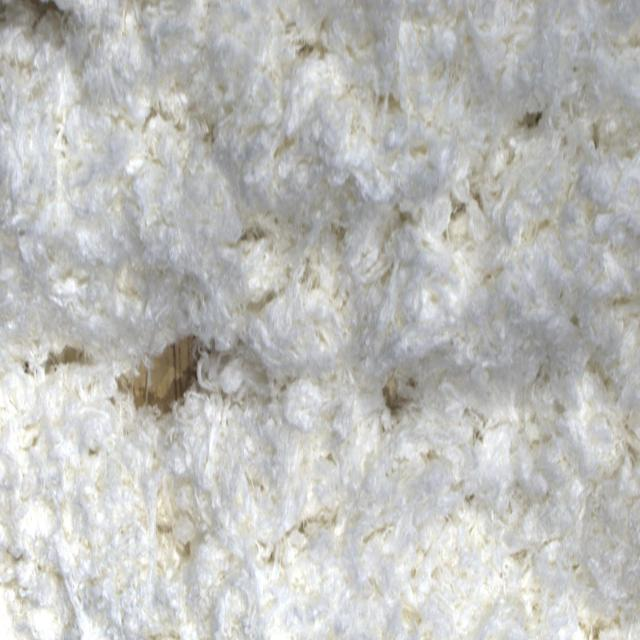dust: (118, 333, 216, 418), (5, 0, 60, 42), (41, 339, 94, 377)
